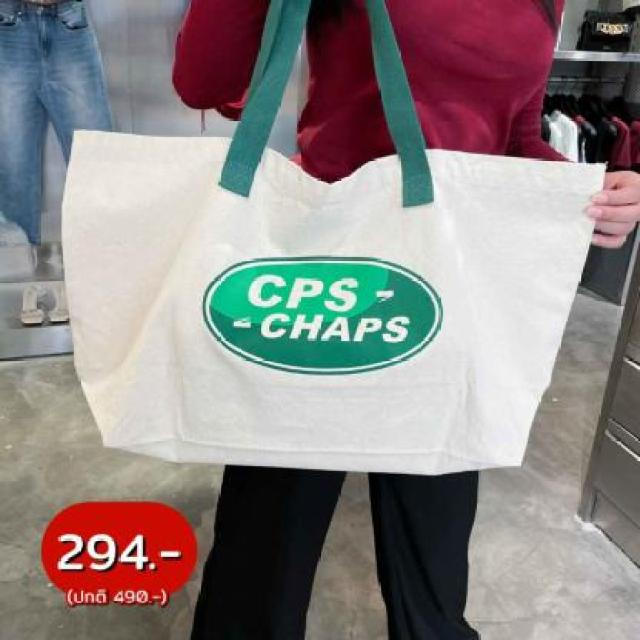Bag: (45, 0, 605, 492)
